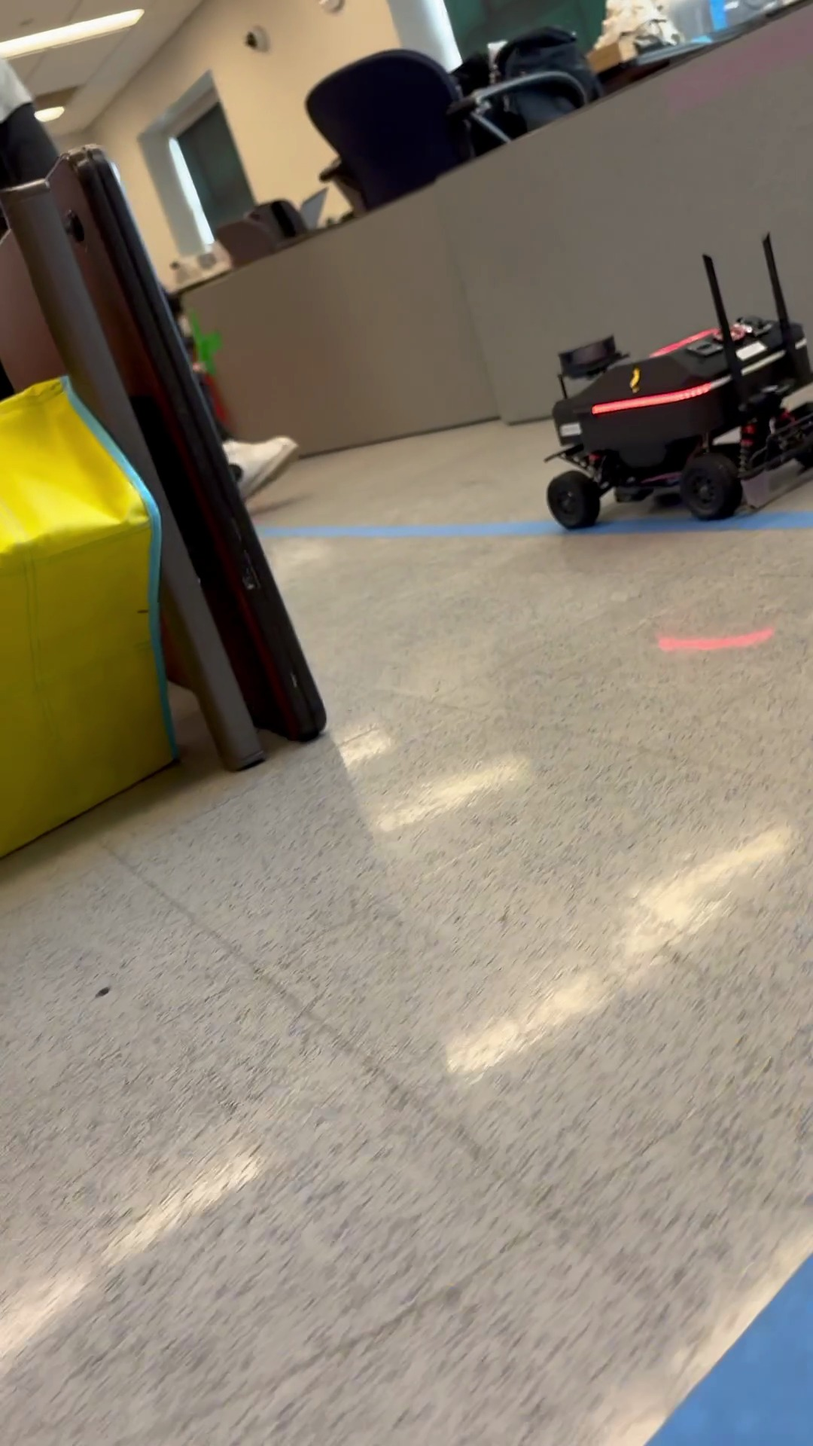racecar: (544, 239, 813, 531)
